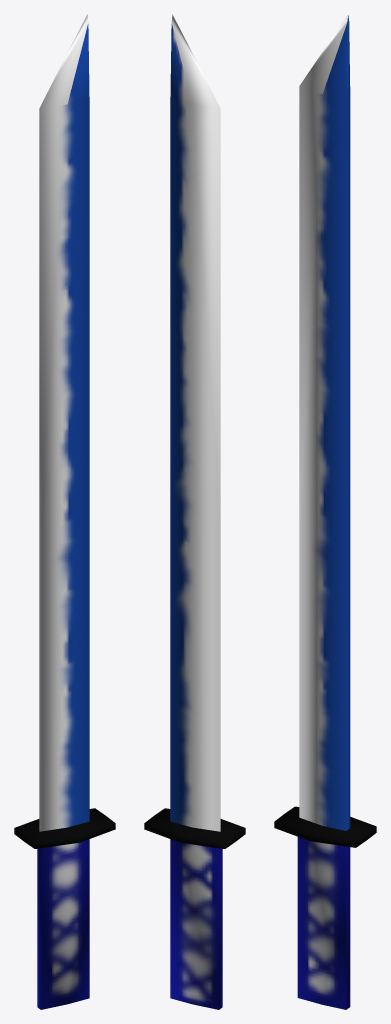
Rendered from Sword.fbx.
3 views of the same model, side by side, from view 1: azimuth 30°, elevation 25°; view 2: azimuth 150°, elevation 25°; view 3: azimuth 330°, elevation 25° (orthographic).
Parts seen in each view (by area): view 1: sword; view 2: sword; view 3: sword.
Part boxes in pixels (bbox=[...]): sword: bbox=[14, 14, 115, 1009]; sword: bbox=[144, 14, 245, 1009]; sword: bbox=[274, 14, 376, 1009].
Size of the model in its own units: 10.8 by 124 by 6.8.
